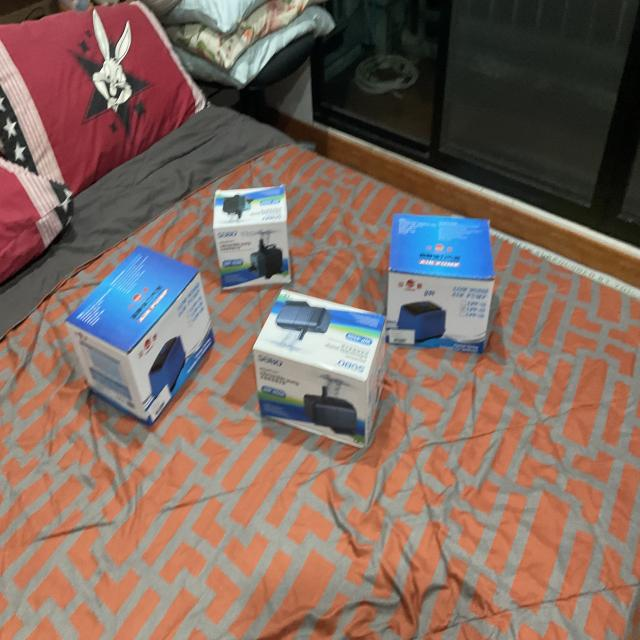SOBO_WP_4200: (246, 281, 398, 473), (202, 172, 298, 302)
YAMANO_LPP_20: (65, 239, 221, 449), (380, 214, 532, 378)
